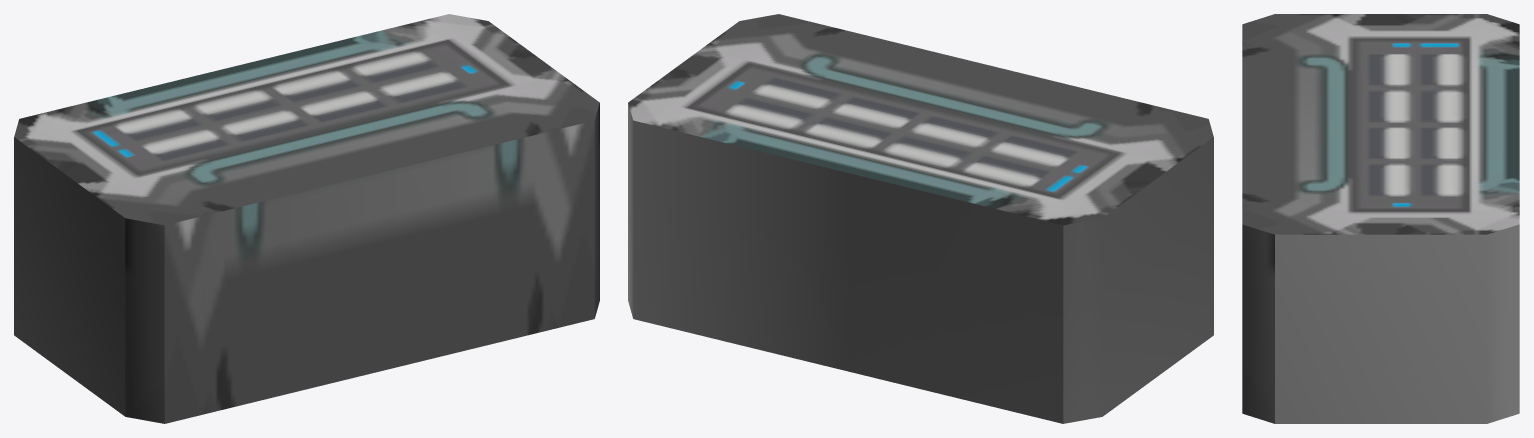
The model's file is Building_GeneBank.obj.
3 renders of one model, left to right at view 1: azimuth 30°, elevation 25°; view 2: azimuth 150°, elevation 25°; view 3: azimuth 270°, elevation 25°, orthographic. The views are drawn at different scales.
Parts seen in each view (by area): view 1: Body; view 2: Body; view 3: Body.
Part boxes in pixels (box(x1,y1,x2,y2)): Body: box(14, 14, 599, 423); Body: box(628, 14, 1213, 423); Body: box(1242, 14, 1519, 423).
Size of the model in its own units: 2 by 0.8 by 1.06.
Materials: 1 (1 with a texture image).
